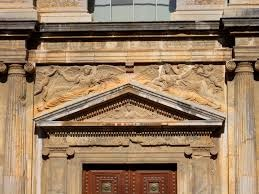fronton: (31, 81, 227, 130)
